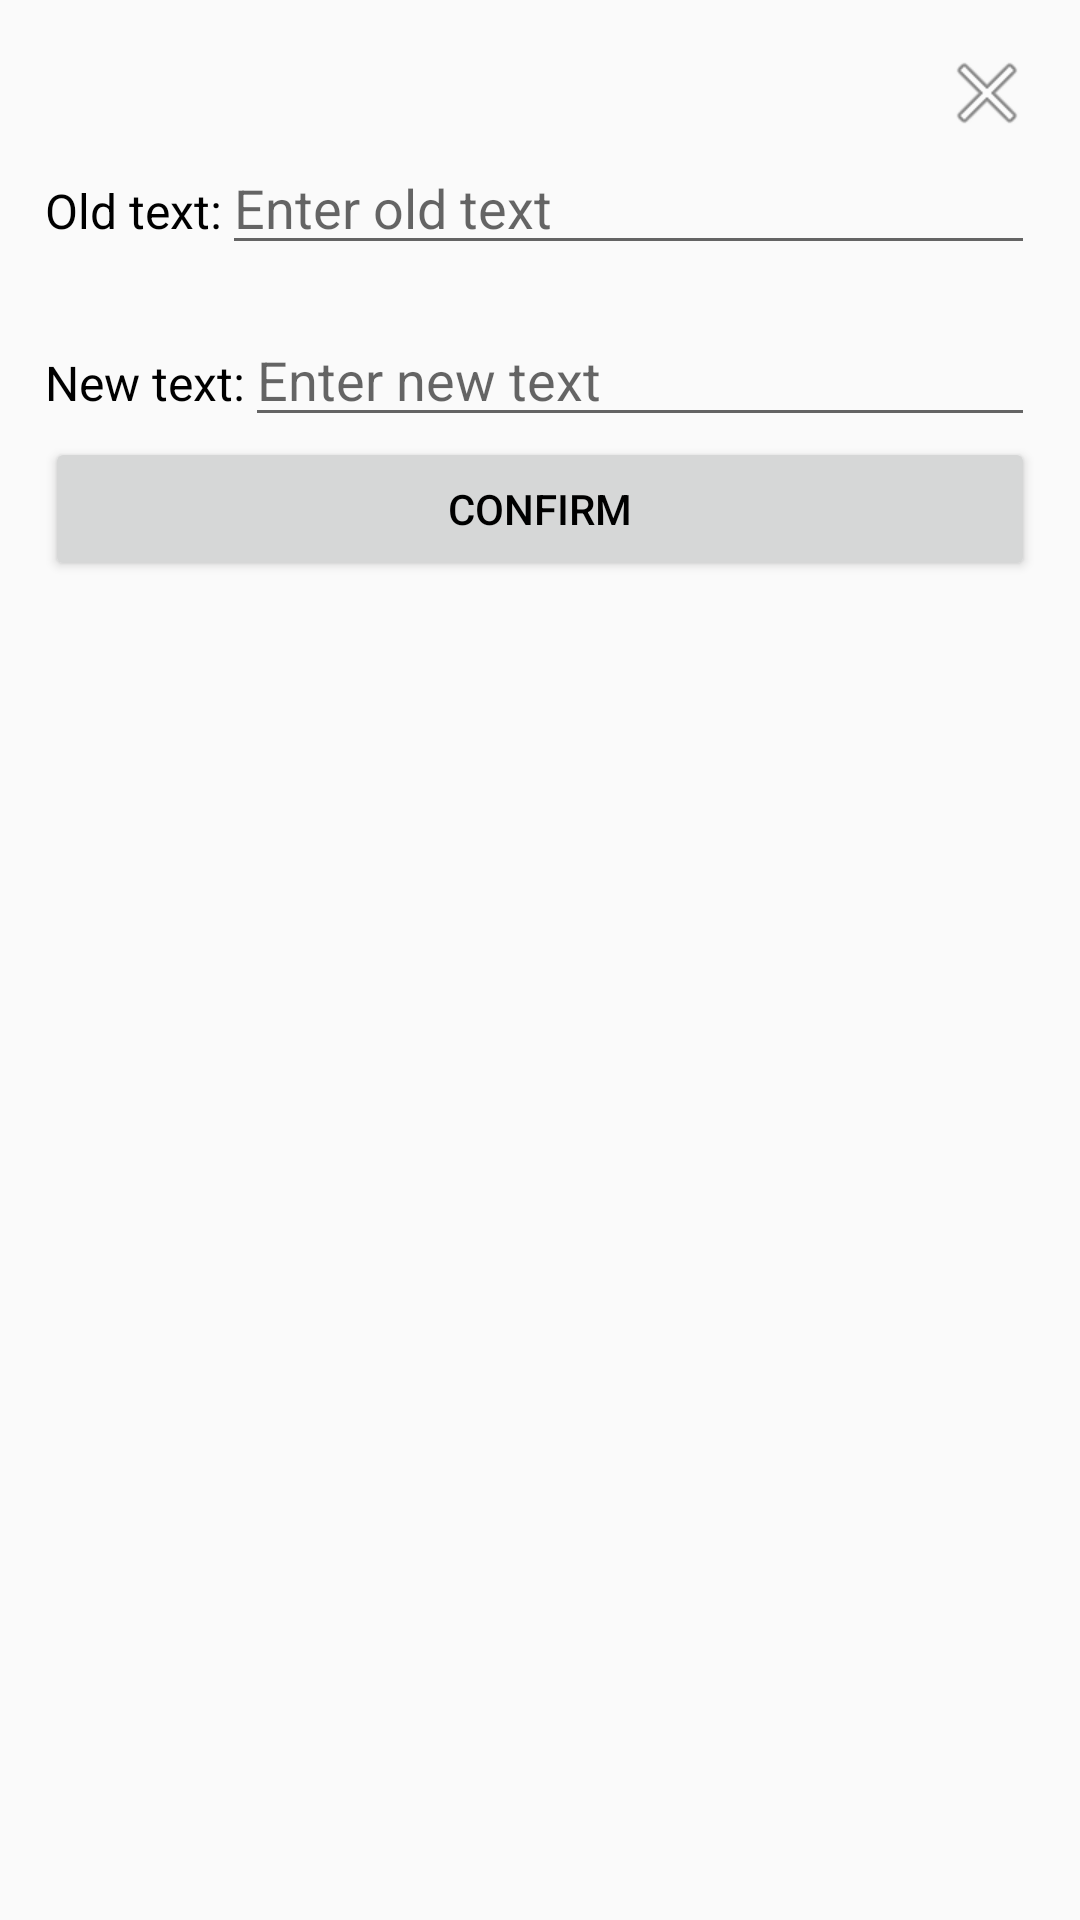

Locate icon controls on the screen. Image size 1080 x 1920, boxes as (x1, y1, x2, y2).
Close: (957, 63, 1017, 123)
